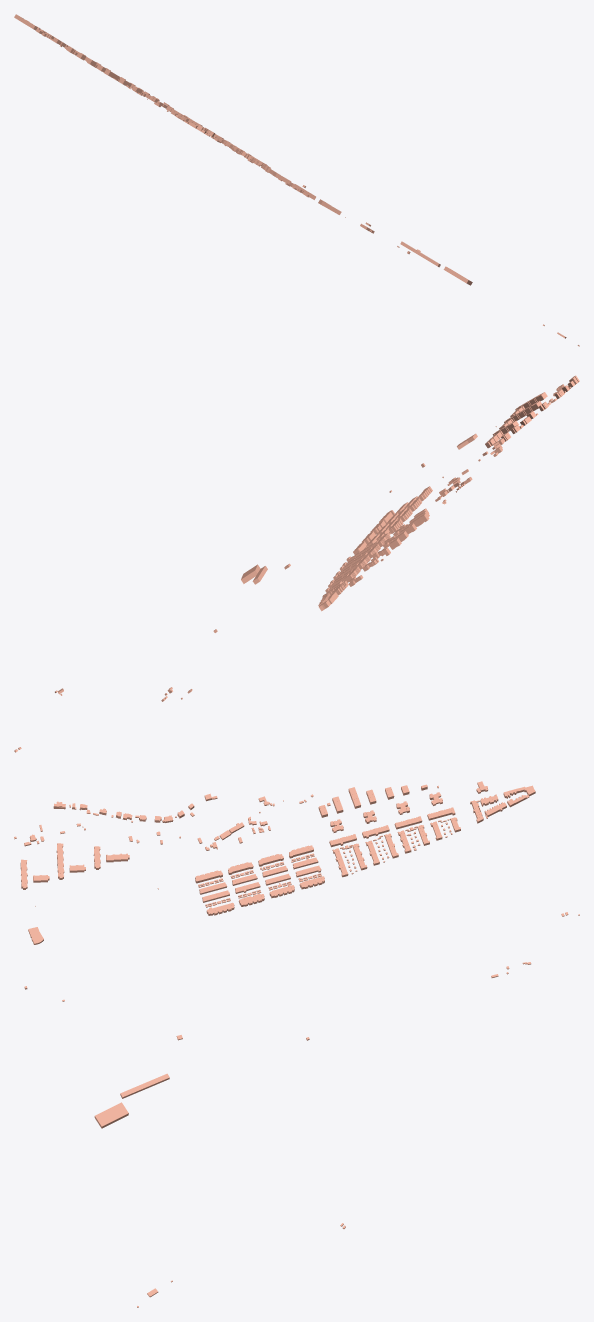
The picture shows the model from 3 angles, top to bottom: view 1: azimuth 30°, elevation 25°; view 2: azimuth 150°, elevation 25°; view 3: azimuth 270°, elevation 25°; orthographic projection. The views are drawn at different scales.
Bounding box in the file's own units: 1016 × 744 × 1184.
